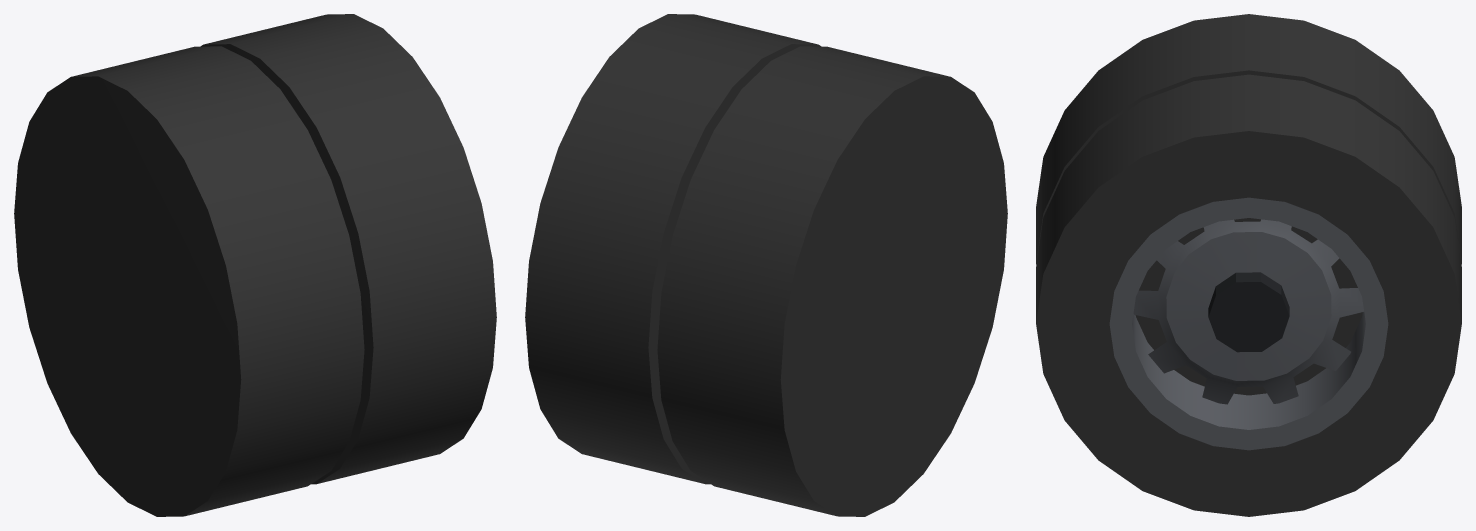
File: offroad.glb
The picture shows the model from 3 angles, left to right: view 1: azimuth 30°, elevation 25°; view 2: azimuth 150°, elevation 25°; view 3: azimuth 270°, elevation 25°; orthographic projection. The views are drawn at different scales.
Parts seen in each view (by area): view 1: WHEEL BIG.005; view 2: WHEEL BIG.005; view 3: WHEEL BIG.005.
Part boxes in pixels (<box>): WHEEL BIG.005: <box>14,14,496,516</box>; WHEEL BIG.005: <box>525,14,1007,516</box>; WHEEL BIG.005: <box>1036,14,1461,516</box>.
Size of the model in its own units: 0.5851 by 0.9001 by 0.9001.
1 material, 1 textured.
